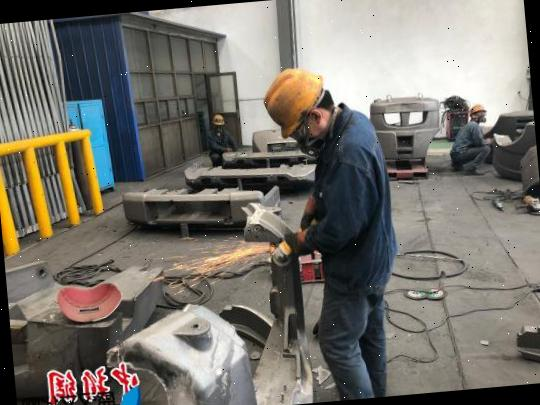helmet: (256, 60, 331, 142), (209, 110, 225, 126), (468, 102, 488, 114)
wear: (311, 122, 392, 299), (450, 119, 486, 170), (208, 128, 232, 161)
